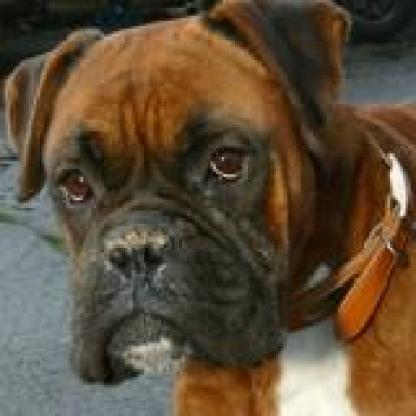boxer: (0, 0, 411, 411)
